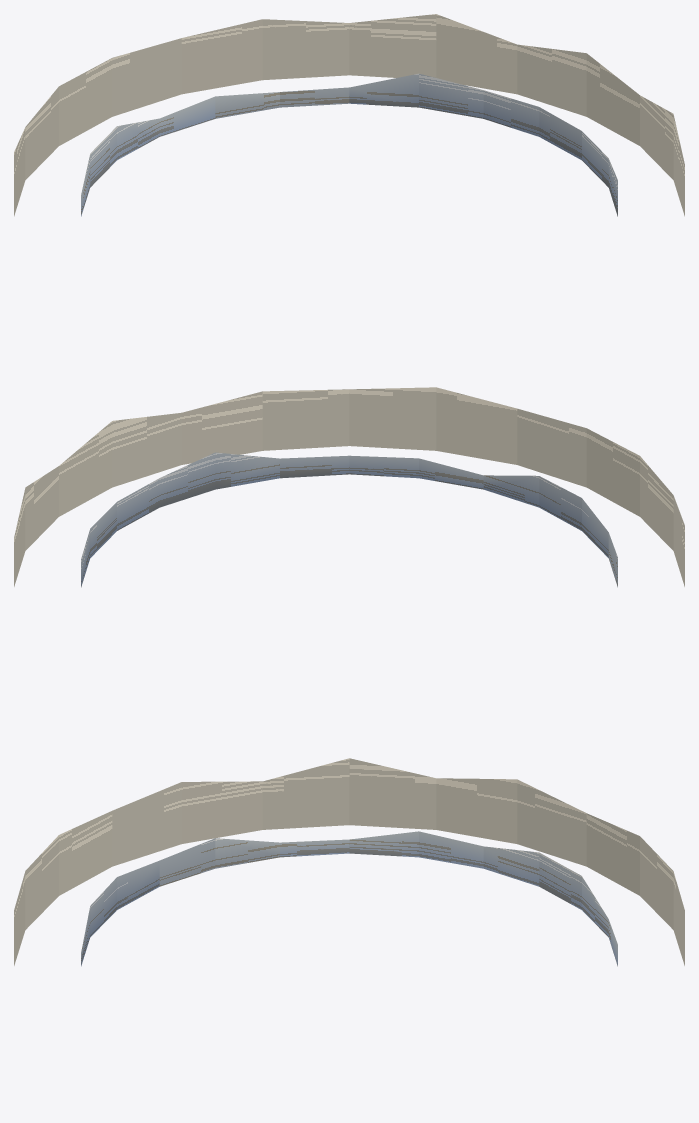
Rendered from mter.backdrop__mountains.glb.
3 views of the same model, one above another, from view 1: azimuth 30°, elevation 25°; view 2: azimuth 150°, elevation 25°; view 3: azimuth 270°, elevation 25° (orthographic).
Visible parts, largest first — view 1: kit_shell_vista_far, kit_shell_vista; view 2: kit_shell_vista_far, kit_shell_vista; view 3: kit_shell_vista_far, kit_shell_vista.
Part boxes in pixels (x1,y1,x2,y2): kit_shell_vista_far: (14, 14, 684, 216); kit_shell_vista: (81, 73, 617, 216); kit_shell_vista_far: (14, 387, 684, 586); kit_shell_vista: (81, 452, 617, 587); kit_shell_vista_far: (14, 758, 684, 965); kit_shell_vista: (81, 831, 617, 966).
Size of the model in its own units: 650 by 71.56 by 650.
2 materials, 2 textured.
